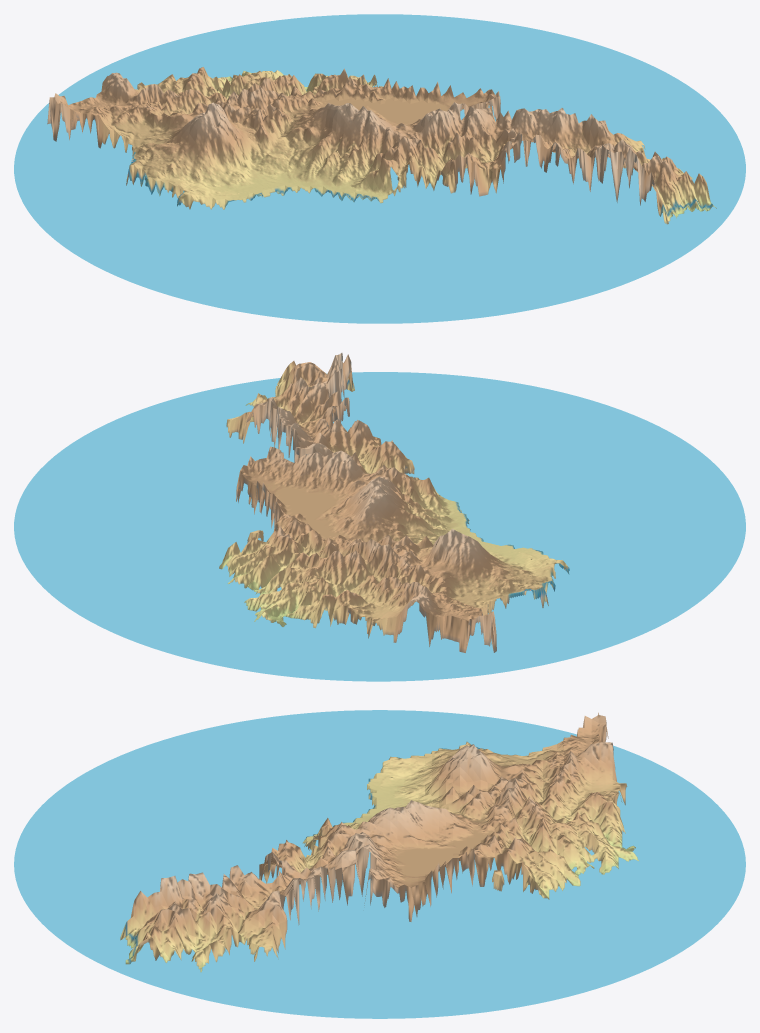
Rendered from ARM-terrain.glb.
3 views of the same model, one above another, from view 1: azimuth 30°, elevation 25°; view 2: azimuth 150°, elevation 25°; view 3: azimuth 270°, elevation 25° (orthographic).
Parts seen in each view (by area): view 1: Relevo com hidrografia; view 2: Relevo com hidrografia; view 3: Relevo com hidrografia.
Part boxes in pixels (box(x1,y1,x2,y2)): Relevo com hidrografia: box(14, 14, 745, 323); Relevo com hidrografia: box(14, 353, 745, 681); Relevo com hidrografia: box(14, 710, 745, 1018).
Size of the model in its own units: 2.27 by 0.21 by 2.27.
Materials: 2 (1 with a texture image).
